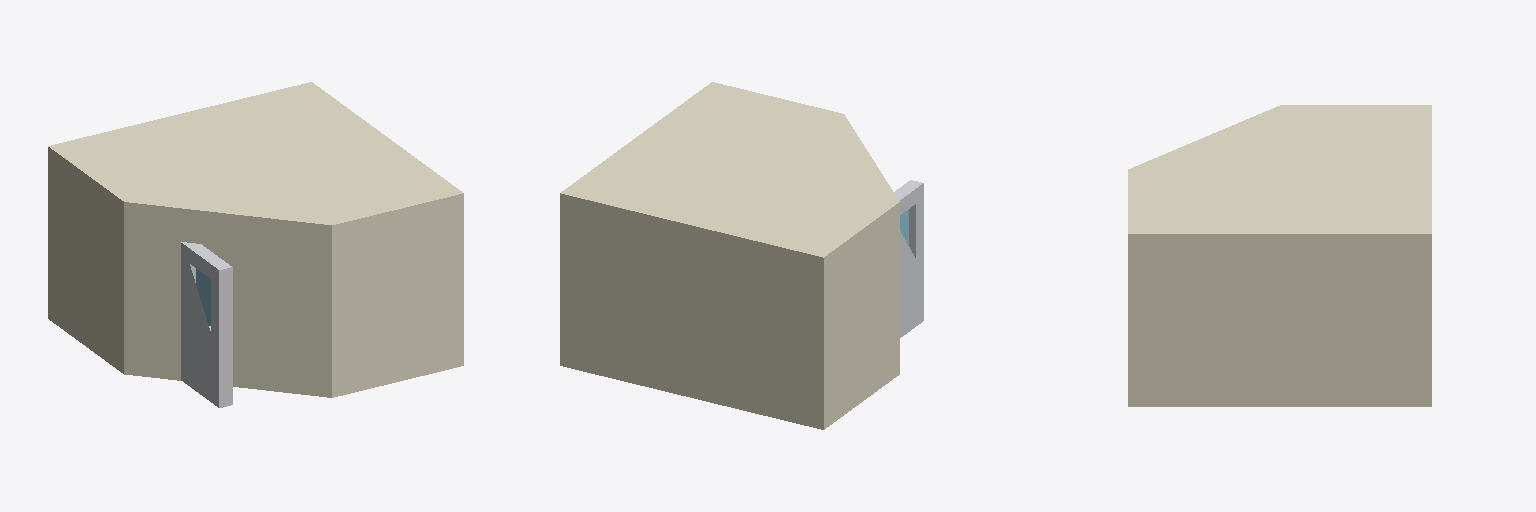
The model's file is modularBuildings_038.obj.
3 views of the same model, side by side, from view 1: azimuth 30°, elevation 25°; view 2: azimuth 150°, elevation 25°; view 3: azimuth 270°, elevation 25° (orthographic).
Visible parts, largest first — view 1: Mesh1_Group1_Model.004; view 2: Mesh1_Group1_Model.004; view 3: Mesh1_Group1_Model.004.
Part boxes in pixels (x1,y1,x2,y2): Mesh1_Group1_Model.004: (48, 82, 463, 407); Mesh1_Group1_Model.004: (560, 82, 923, 429); Mesh1_Group1_Model.004: (1128, 105, 1431, 406).
Bounding box in the file's own units: 1 × 0.625 × 1.